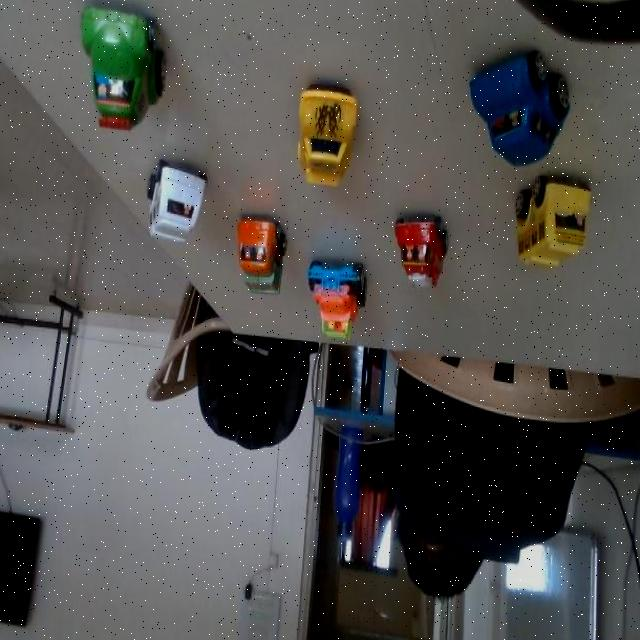car: (17, 0, 205, 170), (239, 53, 397, 198), (114, 132, 223, 266), (464, 48, 554, 165), (303, 255, 382, 354), (224, 198, 290, 314), (501, 176, 573, 258), (385, 202, 447, 290)
